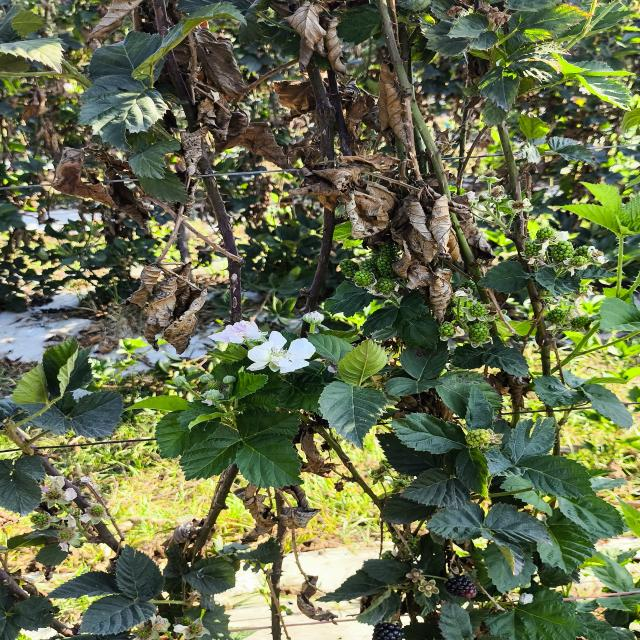boton: (202, 389, 224, 405), (173, 375, 192, 392), (302, 311, 324, 324), (200, 373, 215, 384), (223, 375, 236, 384)
flor: (248, 331, 315, 374), (209, 321, 266, 344)
maduro: (372, 622, 404, 640)
marron: (445, 576, 477, 598)
verde: (547, 240, 575, 263), (466, 429, 494, 448), (468, 322, 489, 346), (359, 257, 379, 278), (339, 259, 359, 278), (465, 302, 487, 319), (375, 278, 396, 295), (354, 270, 375, 287), (524, 238, 541, 257), (569, 254, 589, 268), (439, 322, 455, 339), (536, 227, 555, 241), (575, 245, 594, 258)
